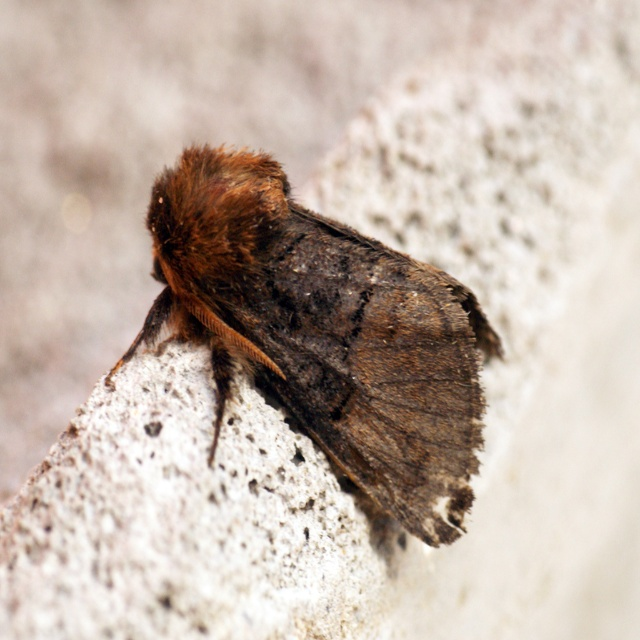Moths and butterflies: (102, 141, 513, 548)
